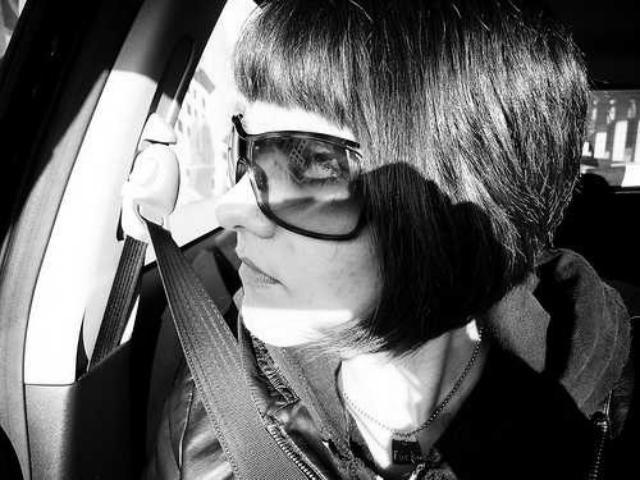Seatbelt: (118, 143, 314, 480)
